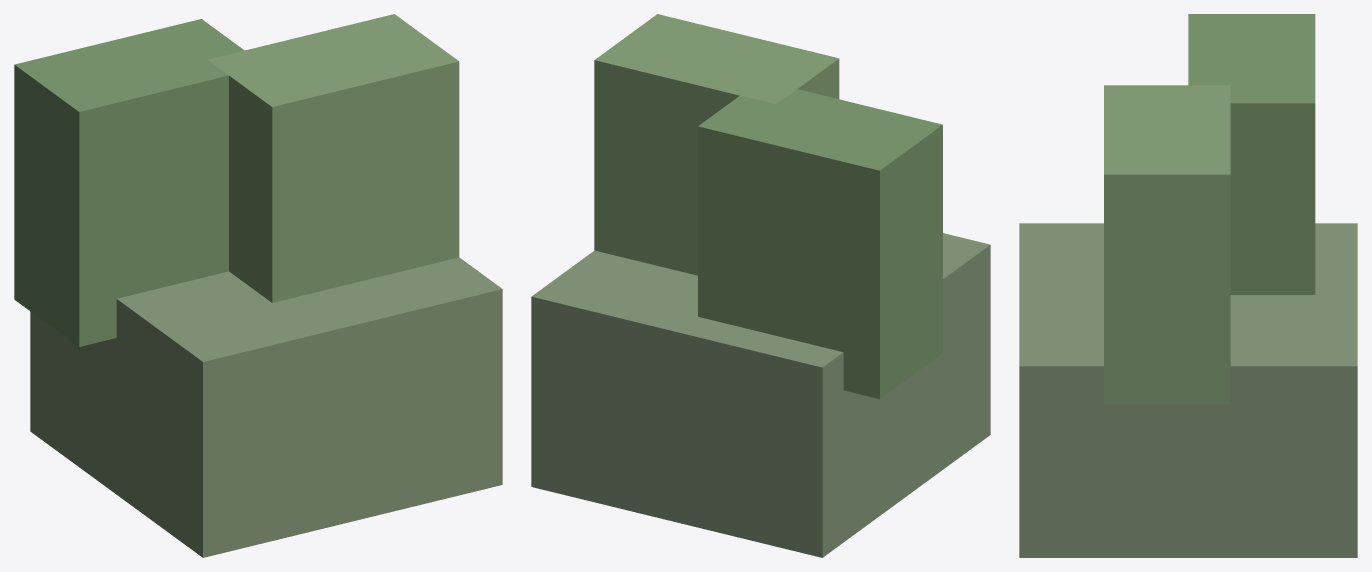
File: maceta_01.glb
The picture shows the model from 3 angles, left to right: view 1: azimuth 30°, elevation 25°; view 2: azimuth 150°, elevation 25°; view 3: azimuth 270°, elevation 25°; orthographic projection. The views are drawn at different scales.
Visible parts, largest first — view 1: maceta; view 2: maceta; view 3: maceta.
Part boxes in pixels (<box>): maceta: <box>14,14,502,557</box>; maceta: <box>531,14,990,557</box>; maceta: <box>1019,14,1357,557</box>.
Bounding box in the file's own units: 0.6429 × 0.7143 × 0.5714.
